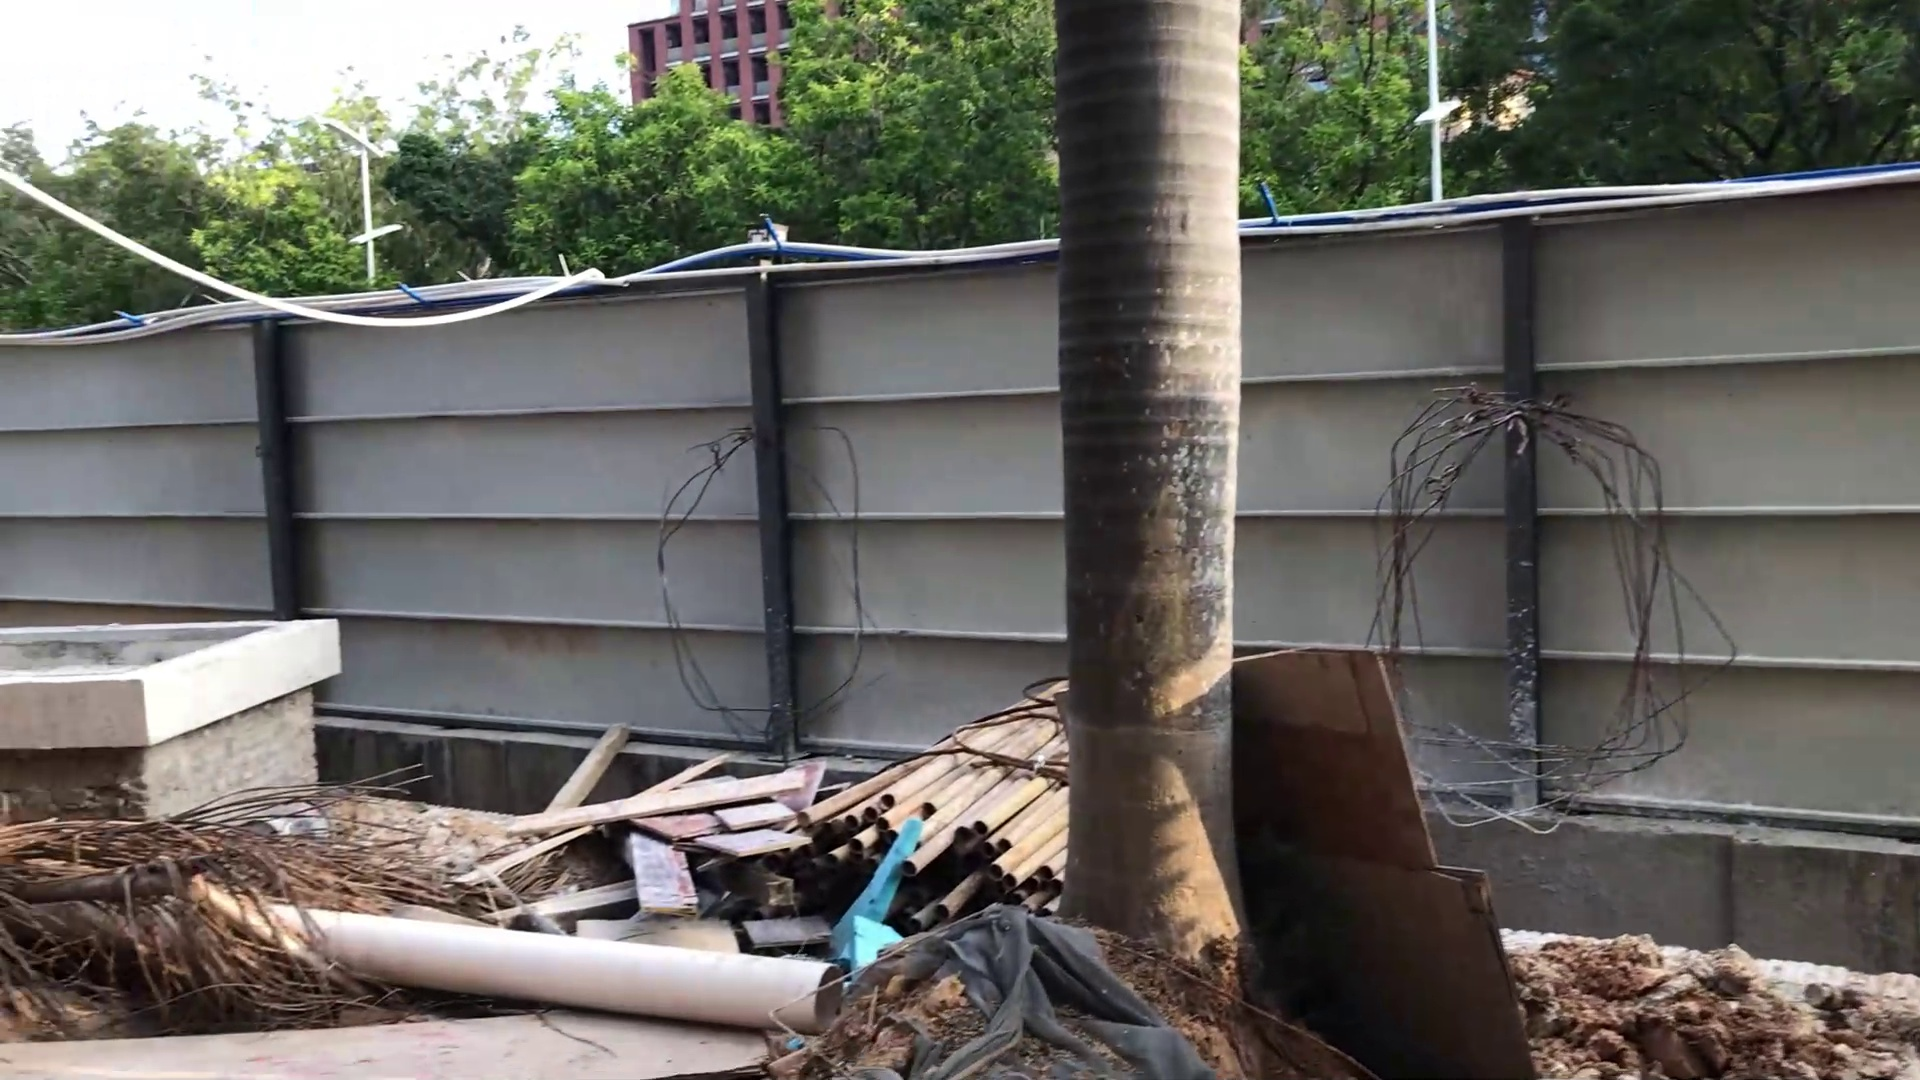scaffold: (818, 674, 1076, 911)
